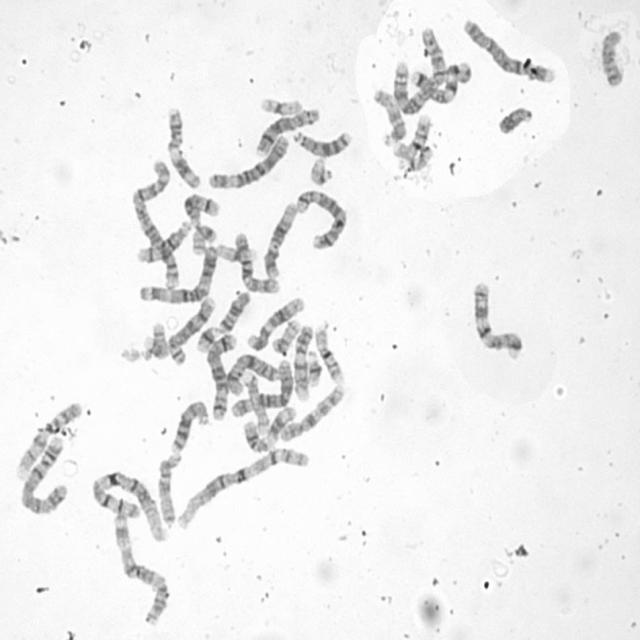A1: (172, 443, 310, 531), (89, 466, 171, 544)
A2: (128, 155, 183, 292), (390, 22, 449, 116)
A3: (110, 508, 172, 626), (135, 241, 219, 304)
B4: (460, 14, 557, 85), (17, 433, 79, 518)
B5: (292, 185, 348, 251), (202, 329, 238, 421)
C10: (275, 381, 348, 443), (232, 228, 281, 294)
C11: (163, 101, 203, 190), (240, 402, 298, 454)
C12: (244, 292, 307, 352), (260, 197, 299, 280)
C6: (205, 131, 291, 190), (228, 356, 293, 418)
C7: (468, 276, 526, 362), (402, 58, 472, 107)
C8: (164, 292, 218, 366), (251, 105, 322, 157)
C9: (12, 398, 84, 482), (290, 321, 315, 402)
D13: (168, 396, 210, 454), (290, 125, 354, 159)
D14: (133, 216, 193, 264), (180, 190, 221, 232)
D15: (370, 84, 409, 147), (156, 451, 182, 528)
E16: (311, 322, 346, 385), (392, 112, 434, 156)
E17: (240, 368, 272, 434), (143, 322, 168, 361)
E18: (597, 25, 627, 89), (215, 288, 252, 334)
F19: (214, 239, 259, 264), (257, 93, 304, 116)
F20: (269, 315, 302, 355), (188, 220, 218, 256)
G21: (193, 321, 219, 353), (304, 345, 323, 388)
G22: (401, 142, 439, 170), (306, 154, 334, 186)
X: (223, 351, 282, 398)
Y: (496, 103, 534, 136)
